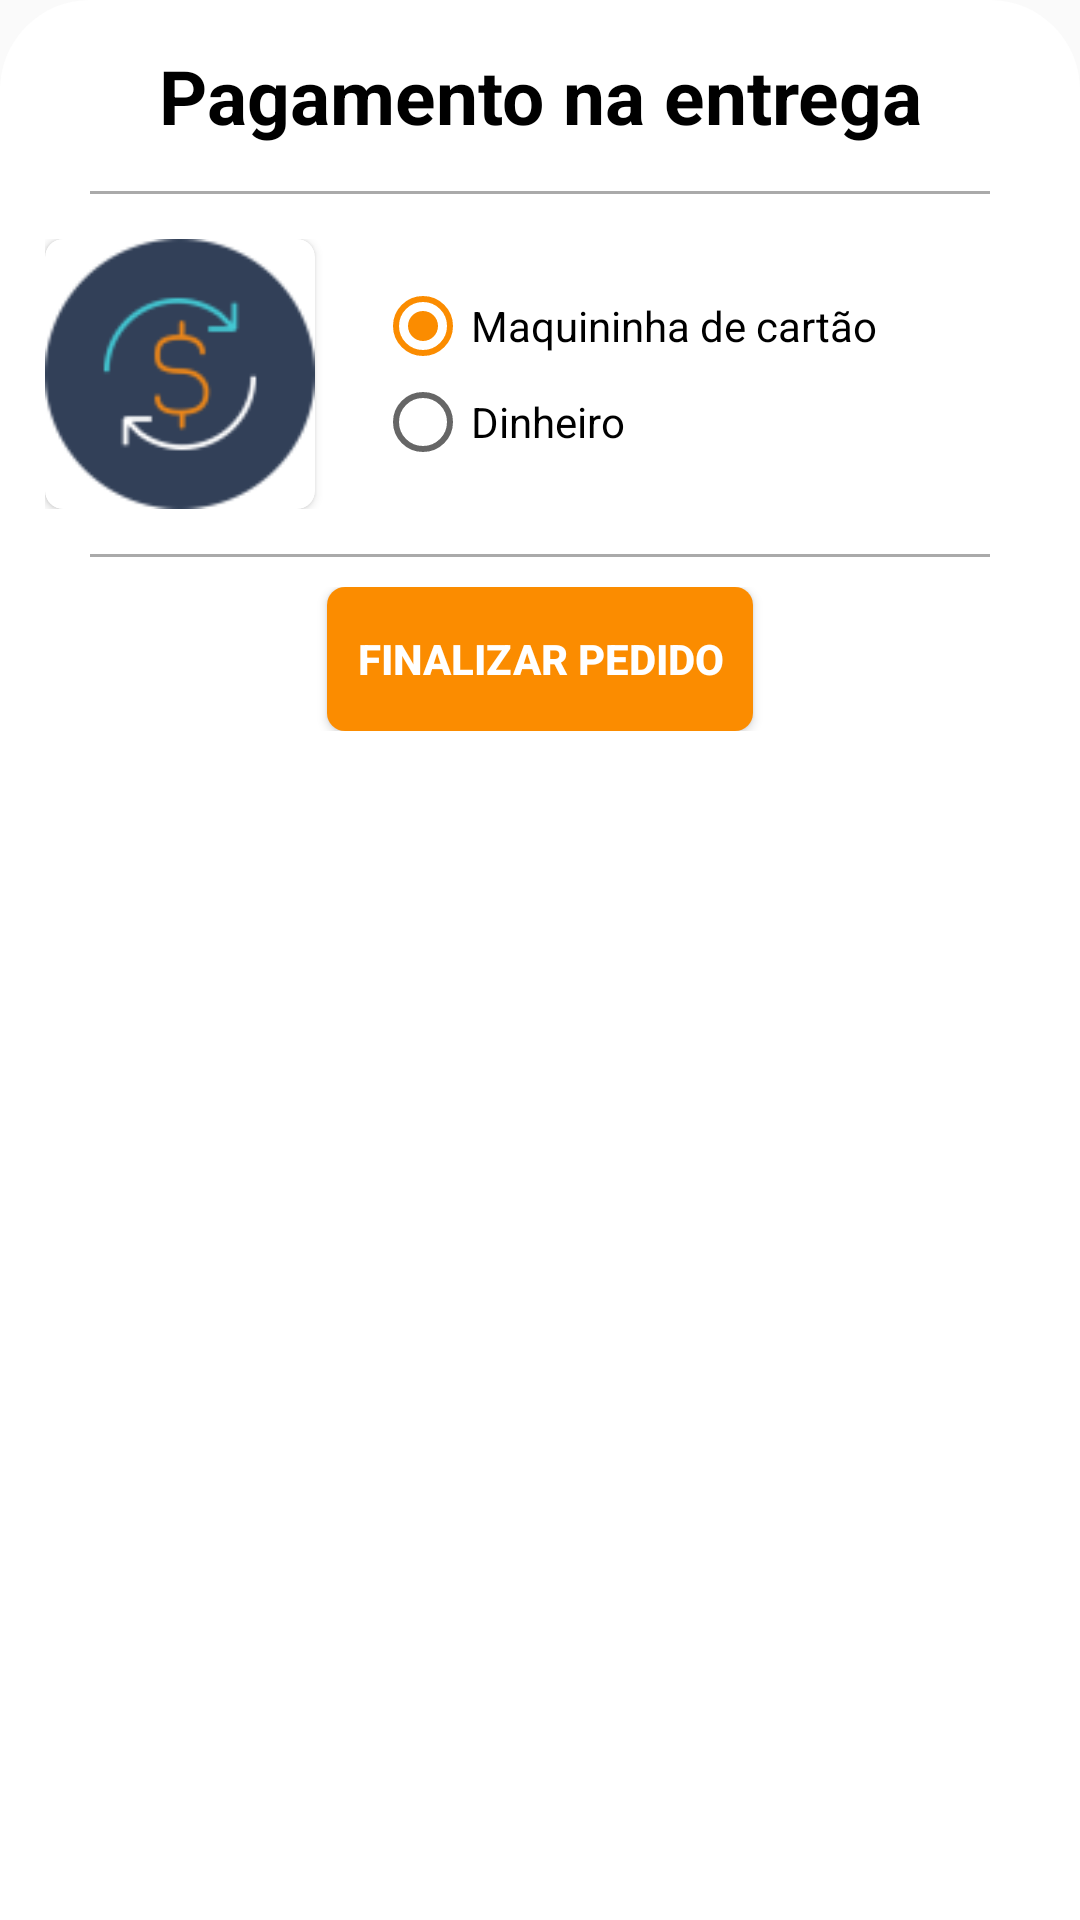

Screen size 1080×1920. Icon name, then its box in pixels as BBox(x1, y1, x2, y2):
cash: BBox(45, 239, 315, 509)
